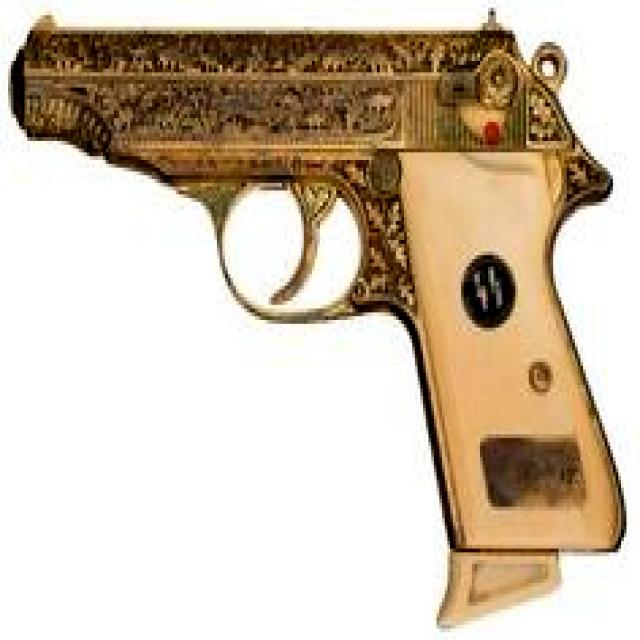semi automatic: (9, 11, 626, 626)
